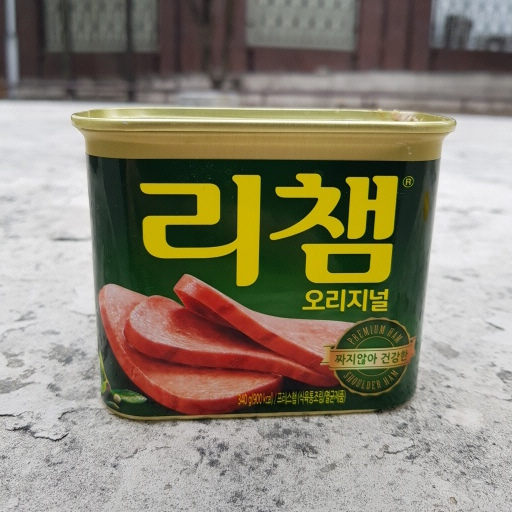Metal_2: (68, 106, 461, 420)
